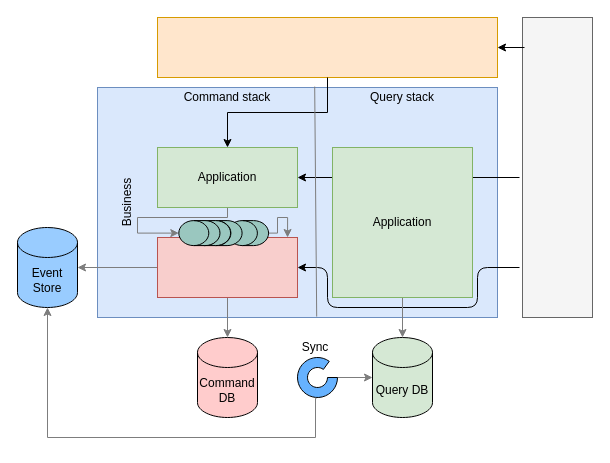
This 610x463 diagram has some shape labels left out. The shapes that lost their labels are listed below. From the top down, each one's centre as x and y in pixels, then its label:
the point at 327,47: Presentation
the point at 557,167: Infrastructure
the point at 227,267: Domain
